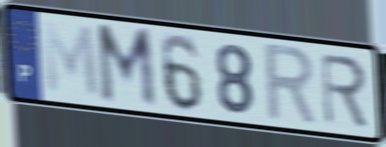6: (158, 32, 205, 115)
8: (214, 41, 257, 116)
M: (93, 22, 159, 113), (40, 17, 103, 102)
R: (262, 41, 321, 130), (318, 51, 371, 131)
